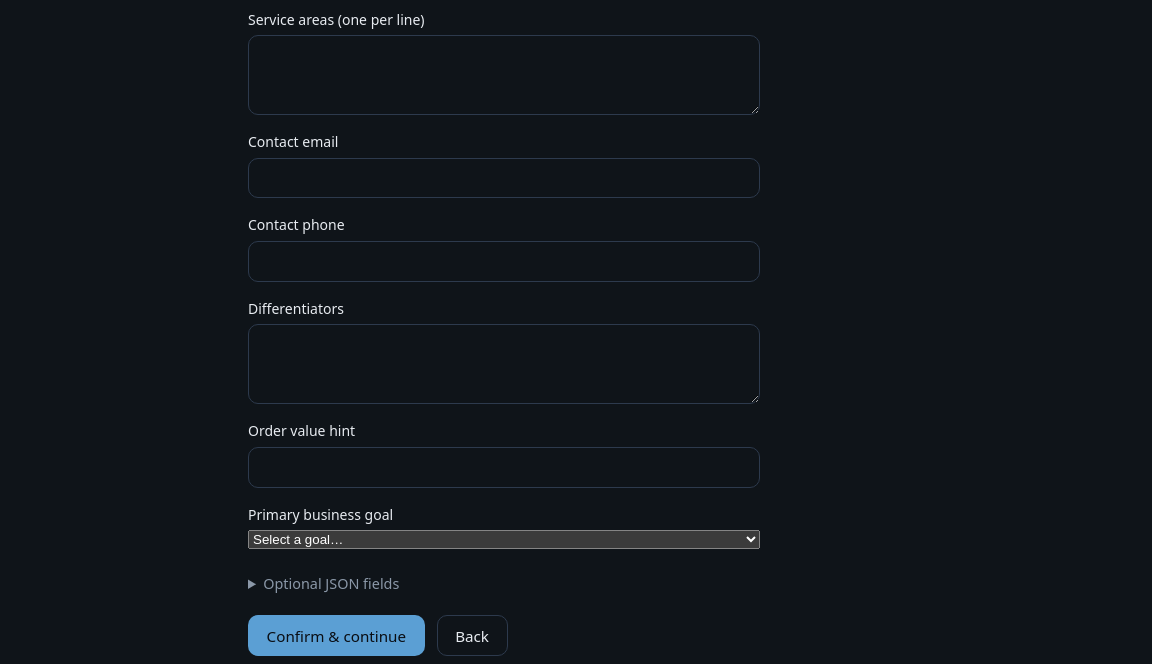
Test: BusinessReviewPage › shows ApiError message when PUT fails
The width and height of the screenshot is (1152, 664).
(page scrolled)
Select "Calls and forms" in the dropdown labelled "Primary business goal" at (504, 540), box [248,530,760,549]
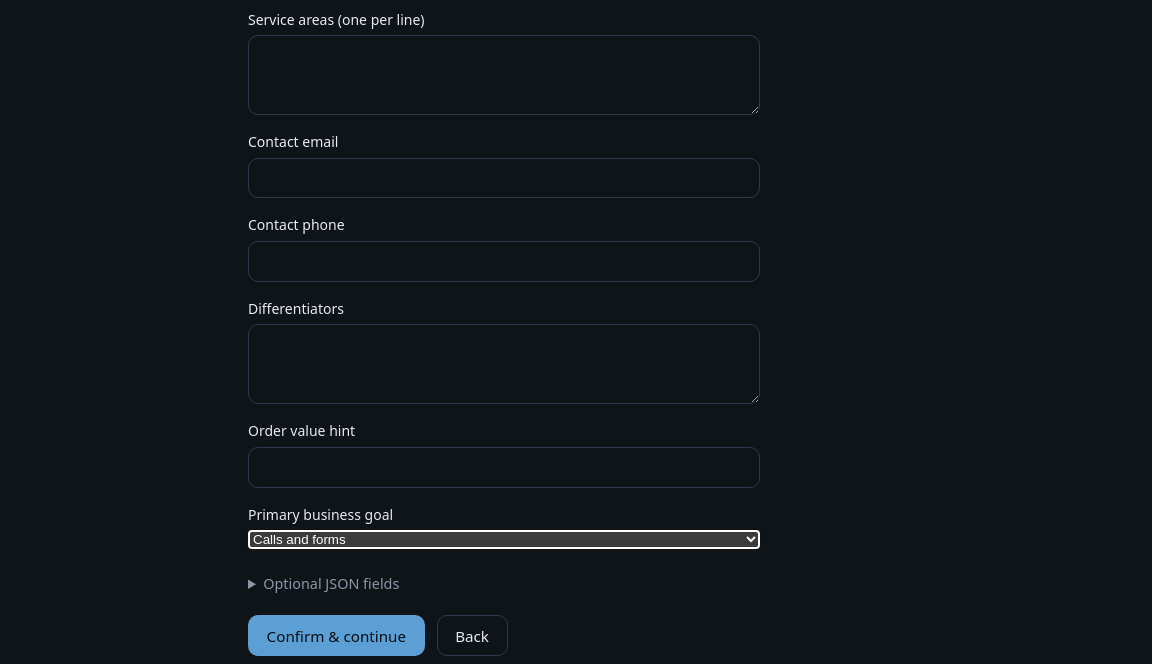
Click the button "Confirm & continue" at (336, 636), box [248,615,425,656]
(page scrolled)
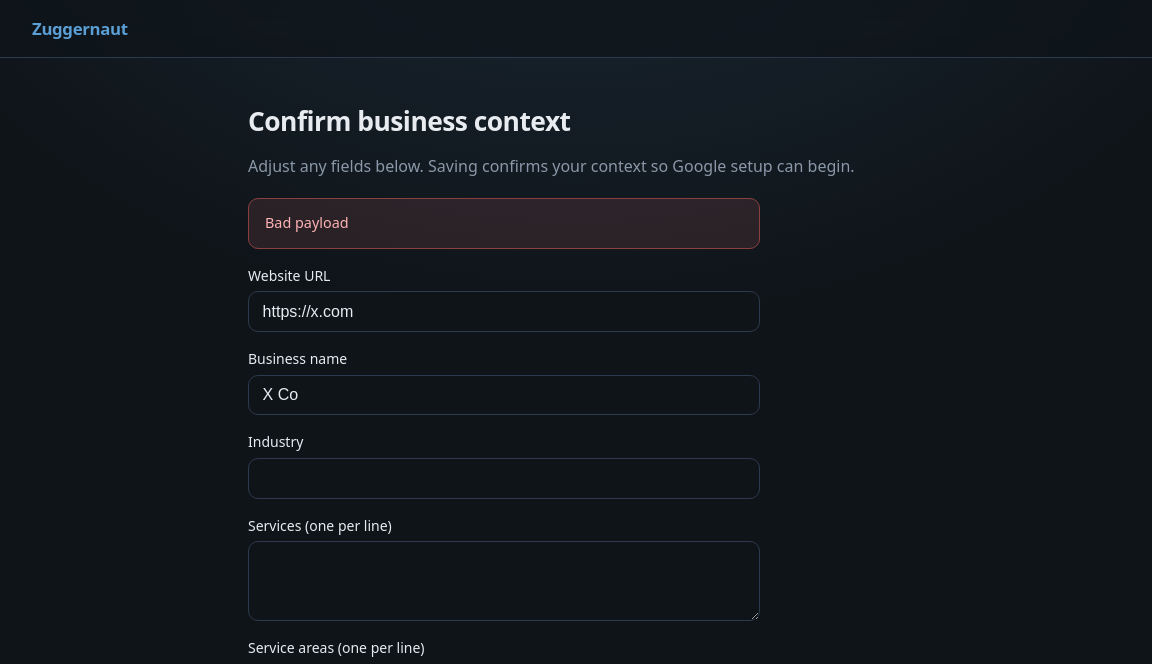
Now the message reads "Bad payload", box [265,213,349,232]
